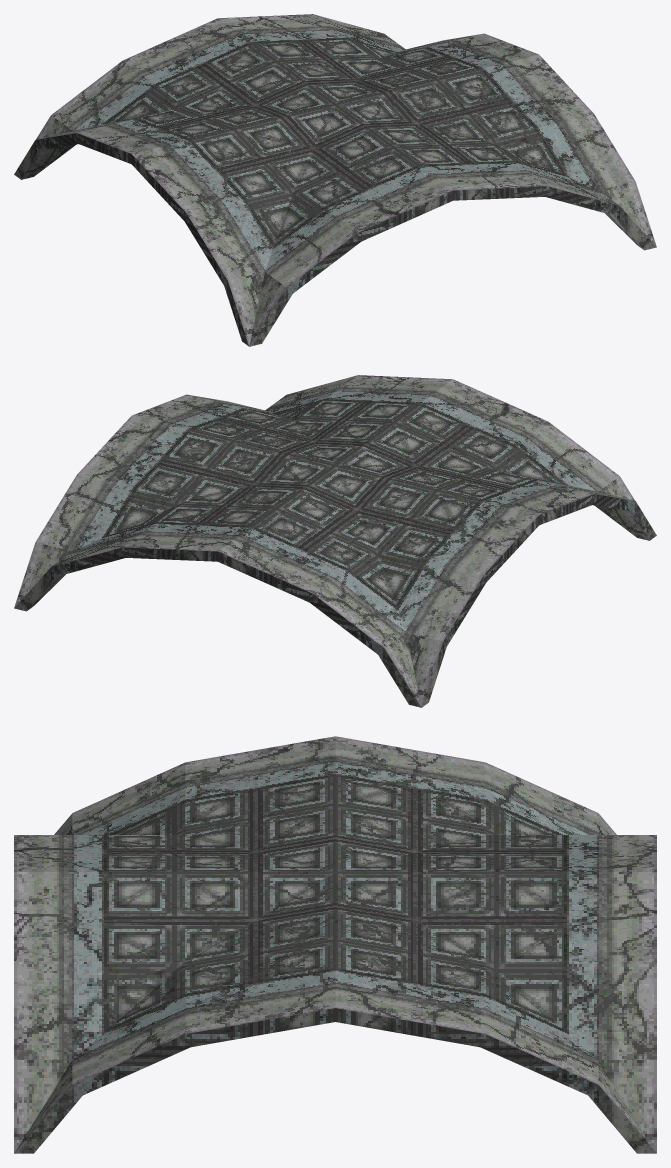
The model's file is roof_set2_04.gltf.
3 renders of one model, top to bottom at view 1: azimuth 30°, elevation 25°; view 2: azimuth 150°, elevation 25°; view 3: azimuth 270°, elevation 25°, orthographic. The views are drawn at different scales.
Parts seen in each view (by area): view 1: roof_set2_04; view 2: roof_set2_04; view 3: roof_set2_04.
Boxes of the visible parts, bbox=[...] form: roof_set2_04: bbox=[14, 14, 656, 346]; roof_set2_04: bbox=[14, 375, 656, 707]; roof_set2_04: bbox=[14, 736, 656, 1153].
Size of the model in its own units: 4 by 1 by 4.
1 material, 1 textured.
